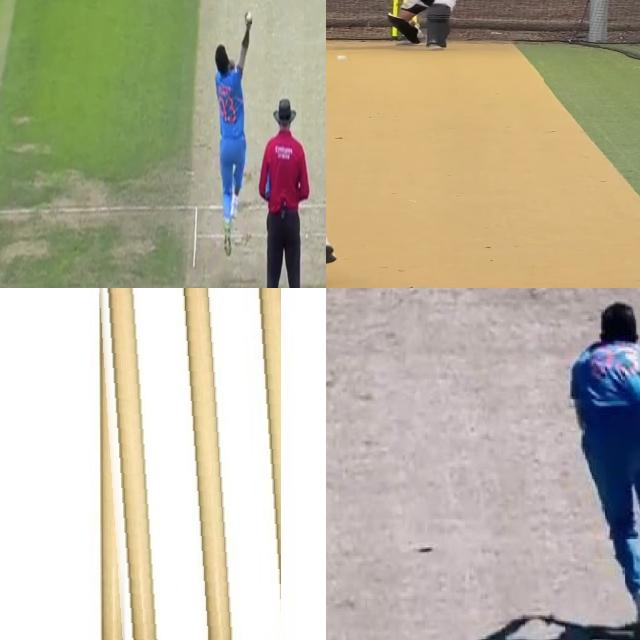Cricket ball: (335, 53, 351, 63), (245, 12, 252, 24)
Stumps: (90, 288, 281, 640)
